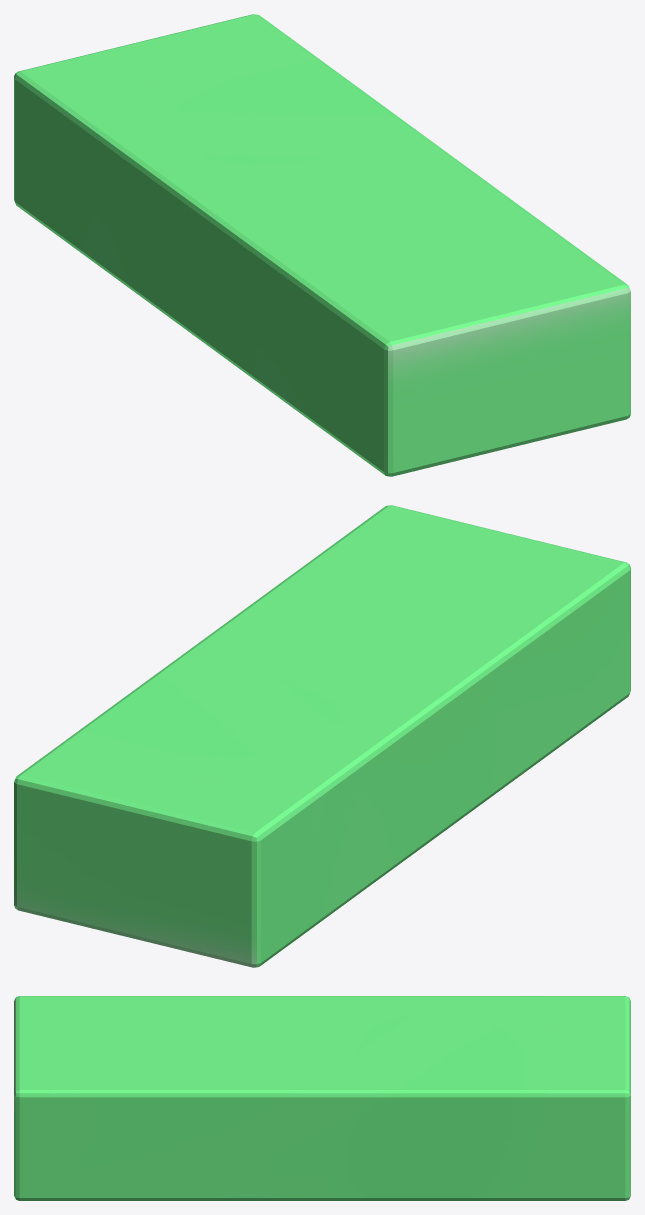
Rendered from MissingKey3.fbx.
3 views of the same model, one above another, from view 1: azimuth 30°, elevation 25°; view 2: azimuth 150°, elevation 25°; view 3: azimuth 270°, elevation 25° (orthographic). The views are drawn at different scales.
Parts seen in each view (by area): view 1: Keys.008; view 2: Keys.008; view 3: Keys.008.
Part boxes in pixels (x1,y1,x2,y2): Keys.008: (14, 14, 630, 476); Keys.008: (14, 505, 630, 967); Keys.008: (14, 996, 630, 1200).
Size of the model in its own units: 84.46 by 44.19 by 223.
